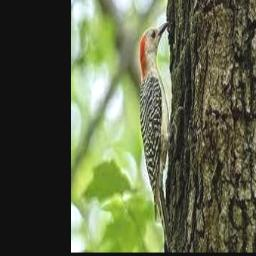Woodpecker: (140, 21, 185, 242)
